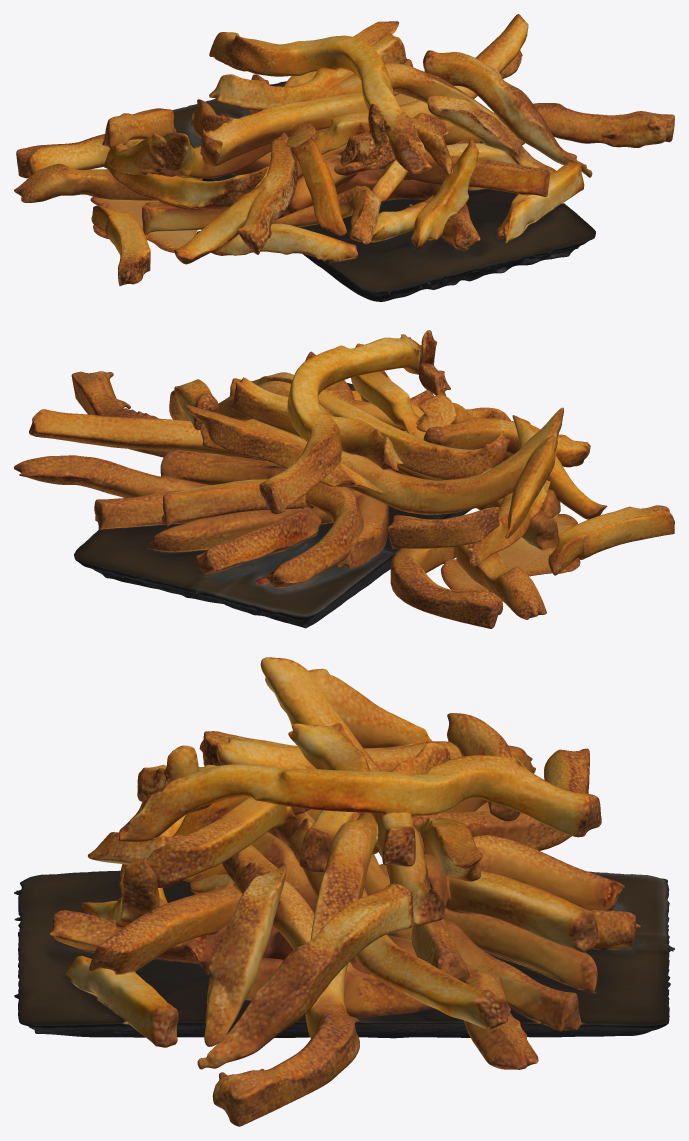
File: fries+3d+model.glb
3 renders of one model, top to bottom at view 1: azimuth 30°, elevation 25°; view 2: azimuth 150°, elevation 25°; view 3: azimuth 270°, elevation 25°, orthographic. The views are drawn at different scales.
Parts seen in each view (by area): view 1: tripo_node_a5ebff8b-d887-4f65-b3cf-ead29eec915e; view 2: tripo_node_a5ebff8b-d887-4f65-b3cf-ead29eec915e; view 3: tripo_node_a5ebff8b-d887-4f65-b3cf-ead29eec915e.
Boxes of the visible parts, bbox=[...] form: tripo_node_a5ebff8b-d887-4f65-b3cf-ead29eec915e: bbox=[14, 14, 674, 301]; tripo_node_a5ebff8b-d887-4f65-b3cf-ead29eec915e: bbox=[14, 330, 674, 628]; tripo_node_a5ebff8b-d887-4f65-b3cf-ead29eec915e: bbox=[14, 657, 674, 1126].
Size of the model in its own units: 0.982 by 0.2485 by 0.7325.
1 material, 1 textured.
